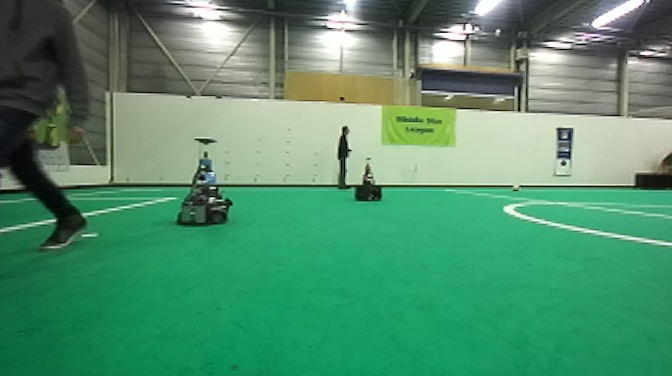ball: (509, 181, 523, 194)
human: (1, 1, 90, 255), (333, 124, 359, 188)
robot: (173, 134, 234, 228), (353, 154, 385, 204)
